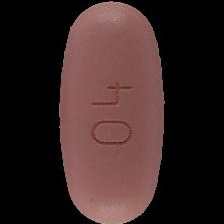16714-685: (0, 0, 224, 224)
